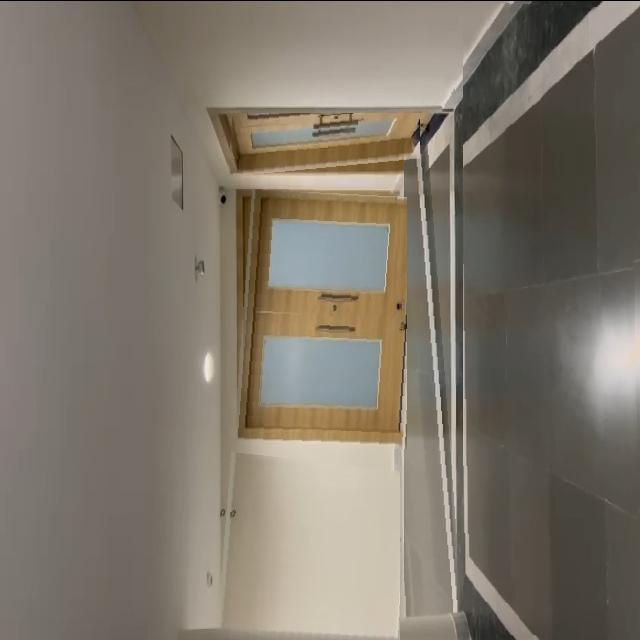door: (233, 188, 407, 448), (227, 108, 420, 176)
floor: (463, 0, 640, 634), (404, 140, 462, 602)
wall: (216, 451, 400, 640), (184, 0, 457, 112)
